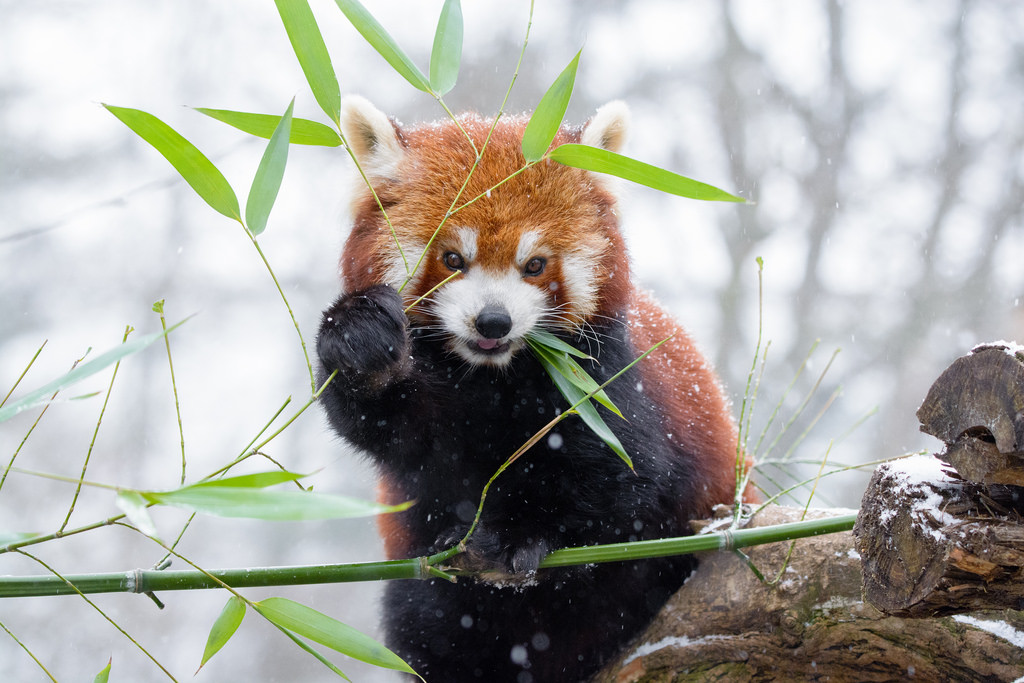red_panda: (312, 89, 751, 669)
